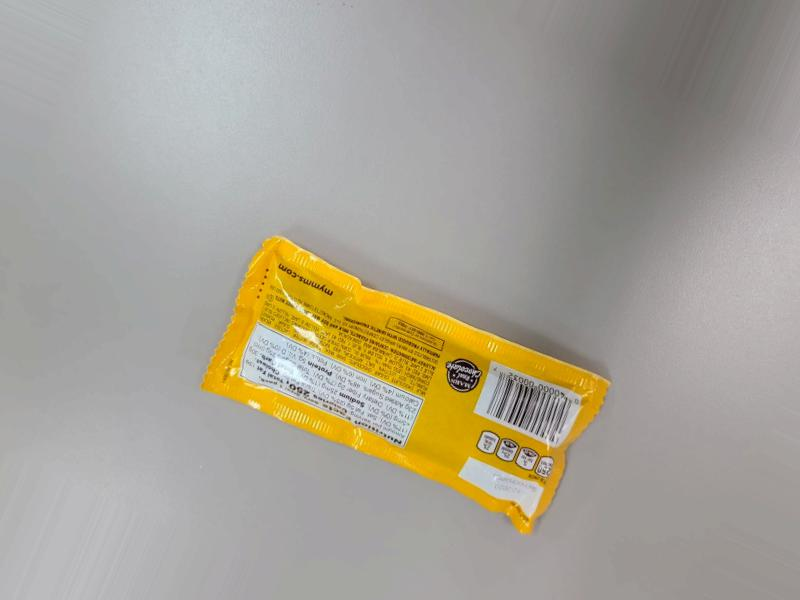m&m: (195, 237, 607, 524)
